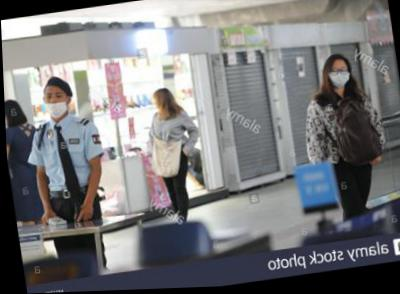OK: (328, 67, 352, 92)
WRONG: (44, 90, 69, 119)
